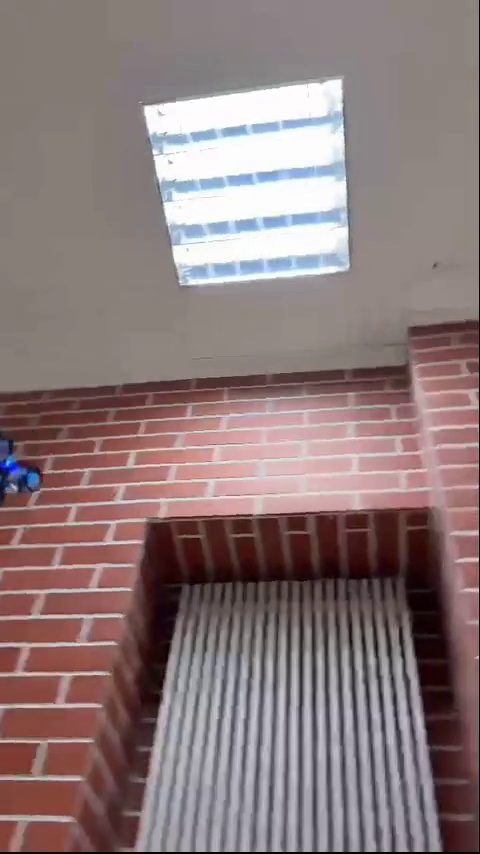drone: (0, 430, 54, 499)
